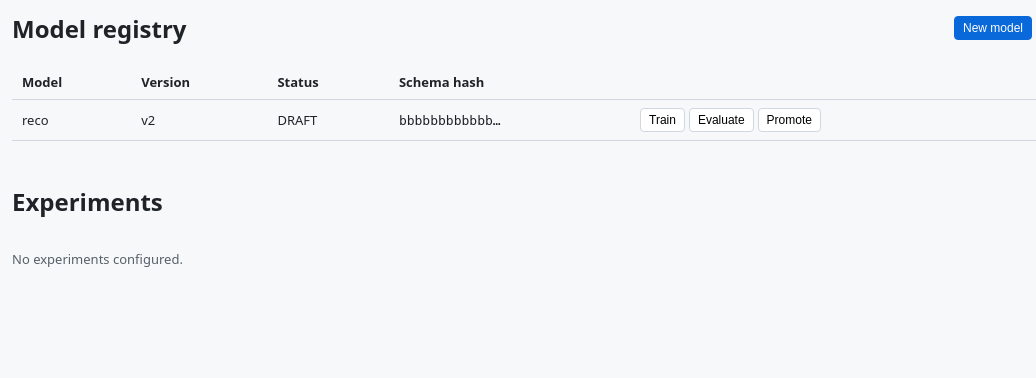
Test: ModelsView › surfaces a schema mismatch error when promote returns 409
This screenshot has width=1036, height=378.
Click the button with test id "promote-v2". click: point(789, 120)
box: [758,108,821,132]
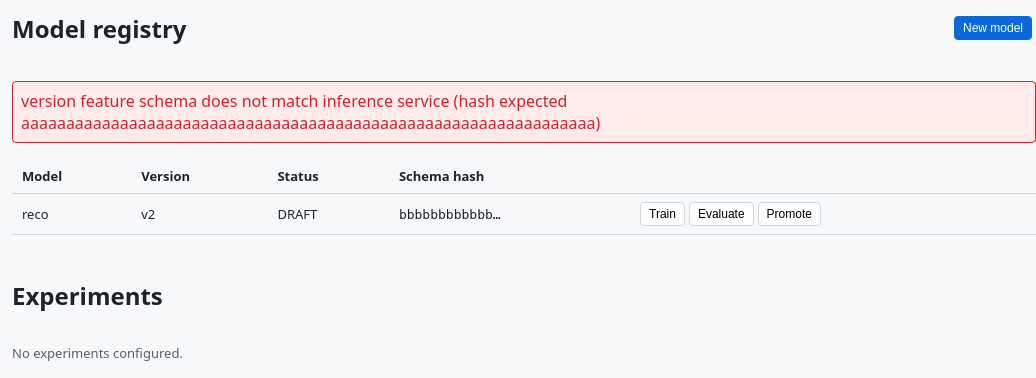
Expected: the text with test id "promote-error" is shown, [12,81,1035,143]
Expected: the text with test id "promote-error" shows "does not match inference service", [21,90,600,134]
